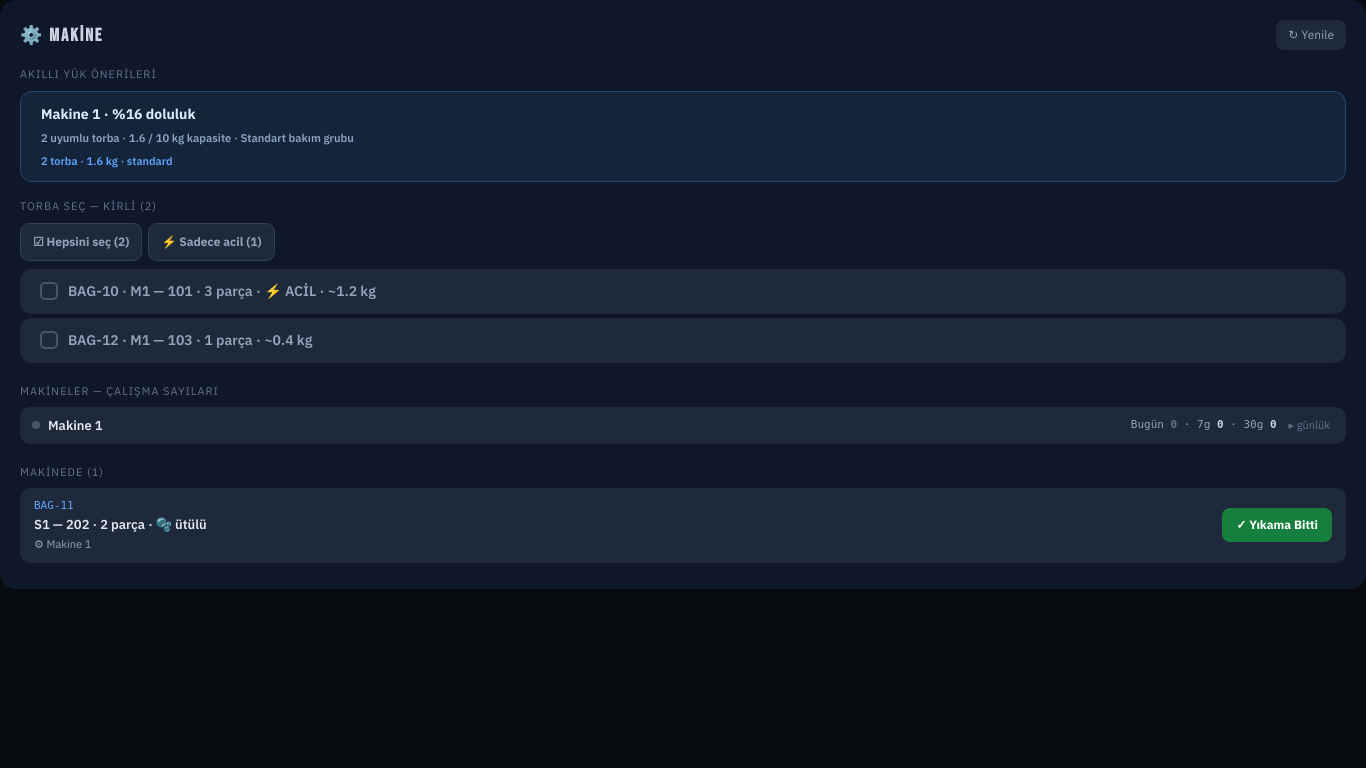
MachineView smoke › "Hepsini seç" tüm kirli torbaları tek dokunuşla seçer
Expected: the text "BAG-10 · M1 — 101 · 3 parça · ⚡ ACİL · ~1.2 kg" is shown, 68,281 -> 376,302
Click the button "☑ Hepsini seç (2)" at (81, 242), box 20,223 -> 142,261
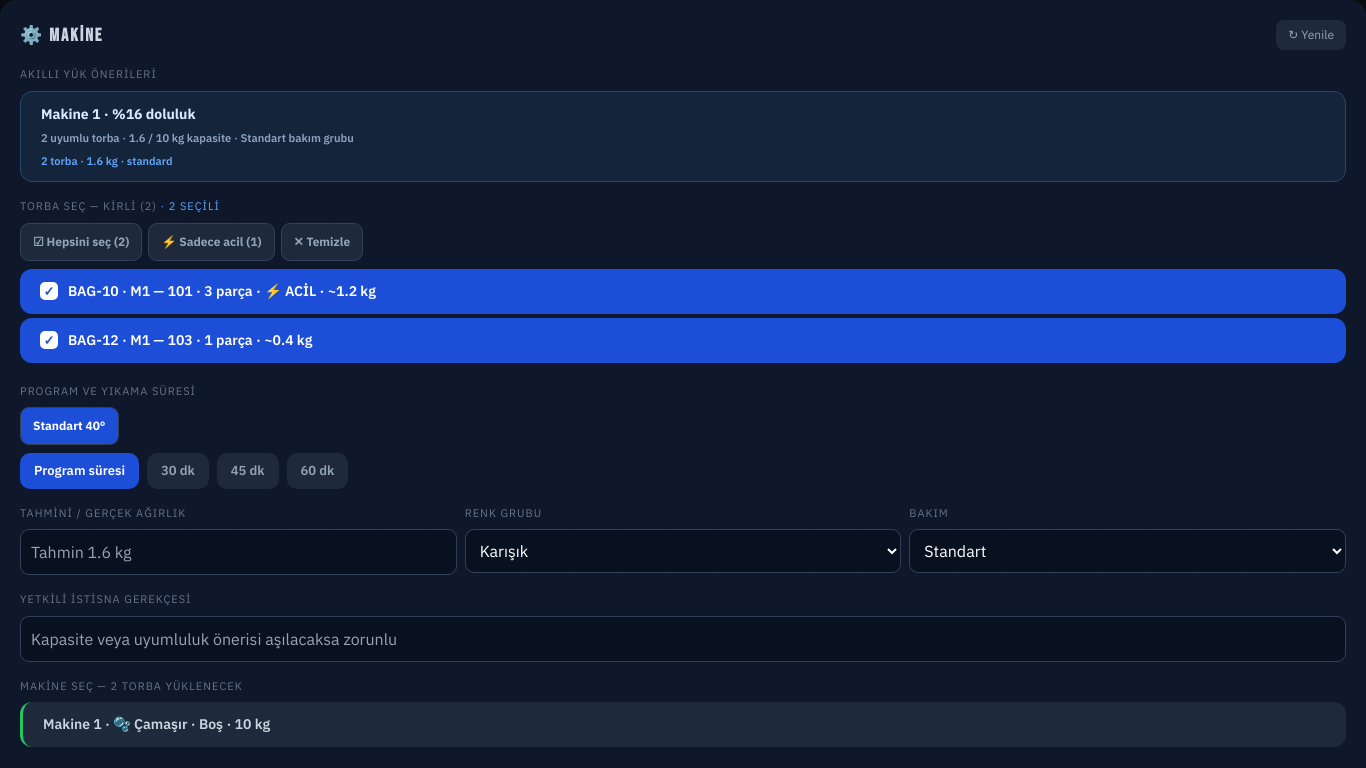
Result: the text "· 2 seçili" is shown at 157,199 -> 220,213
Click the button "✕ Temizle" at (322, 242), box 280,223 -> 363,261
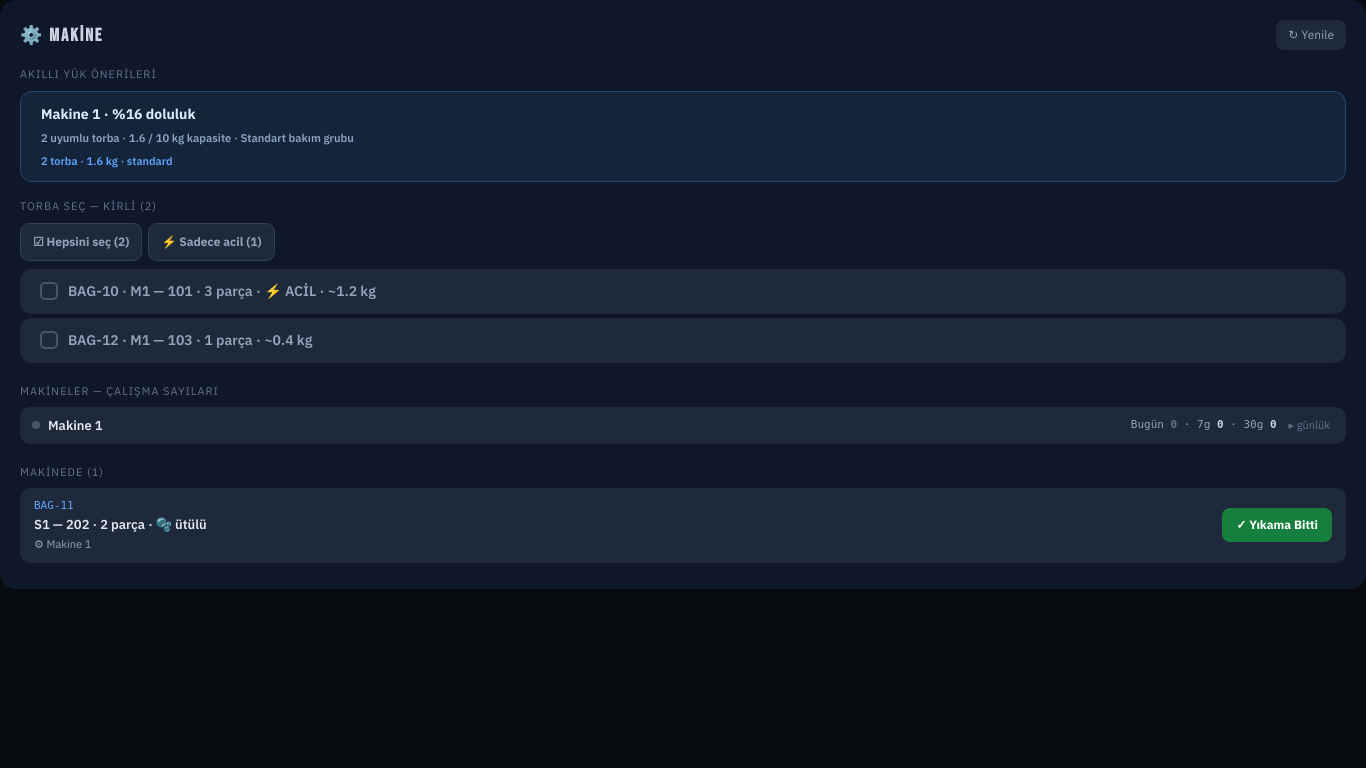
Result: the text "seçili" is gone
